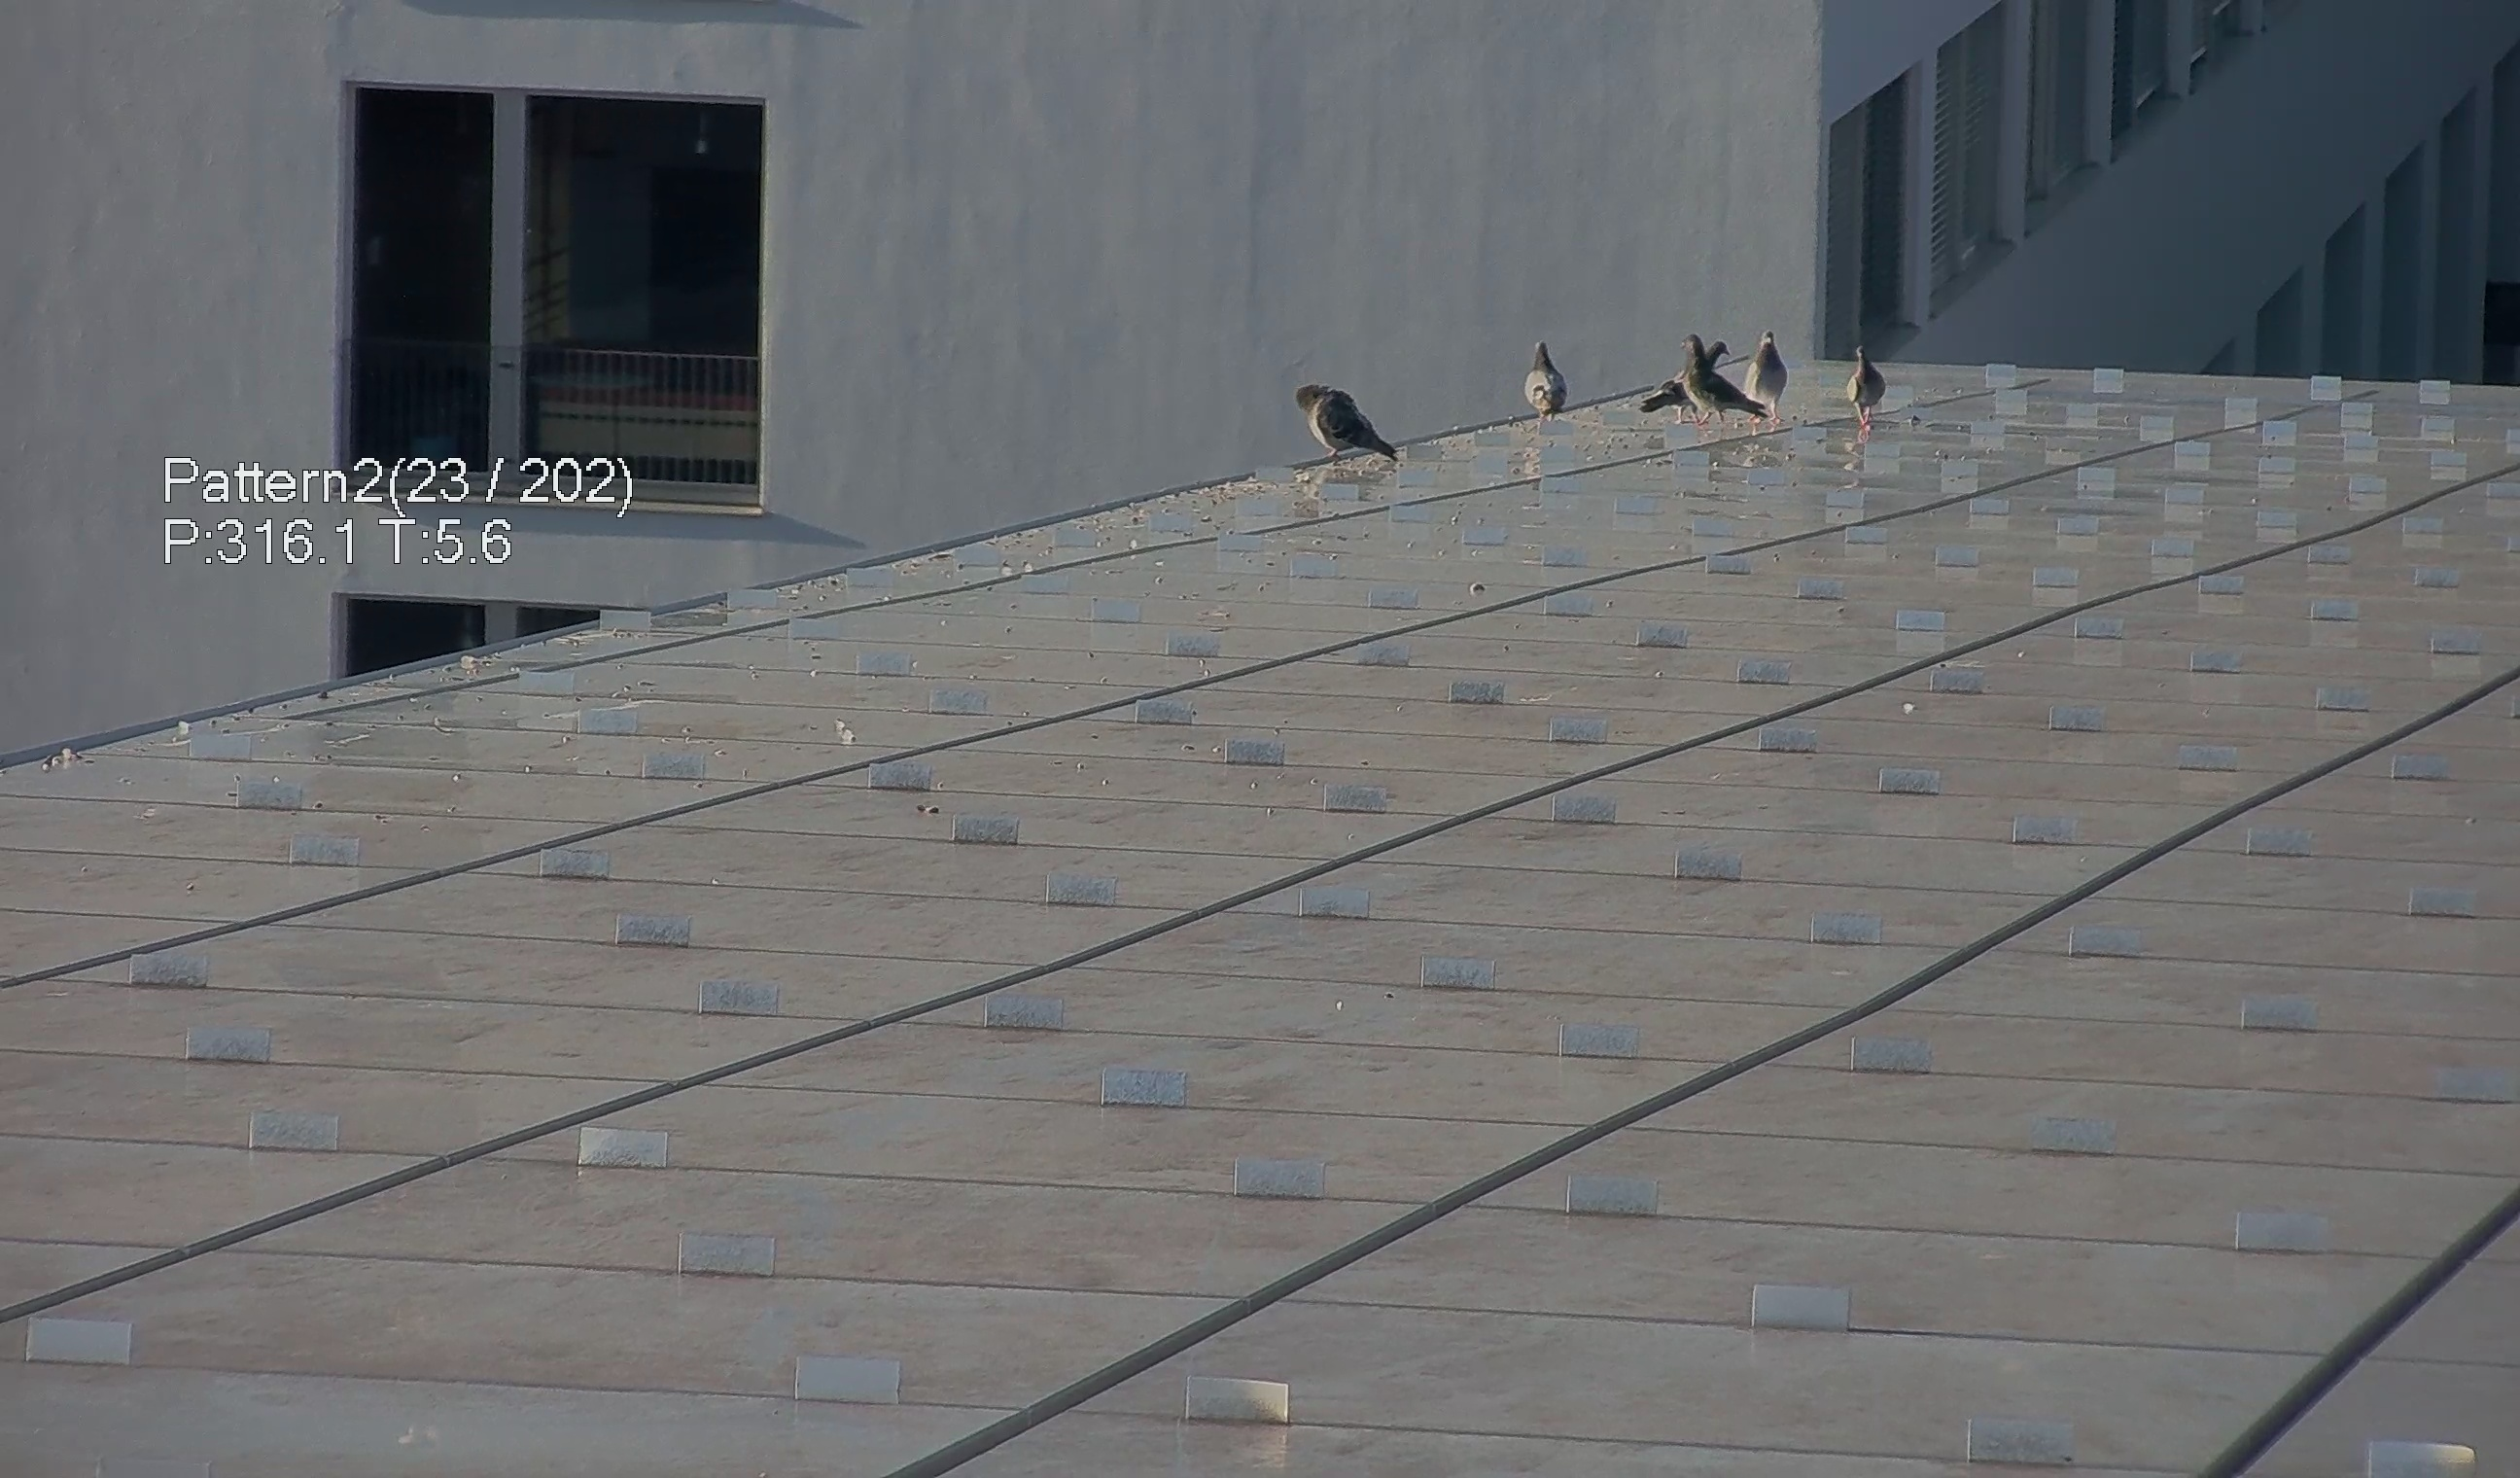Pigeon: (1285, 364, 1417, 482), (1660, 329, 1771, 428), (1739, 322, 1806, 419), (1845, 334, 1896, 433), (1523, 327, 1577, 417), (1634, 375, 1692, 426), (1702, 338, 1732, 371)
